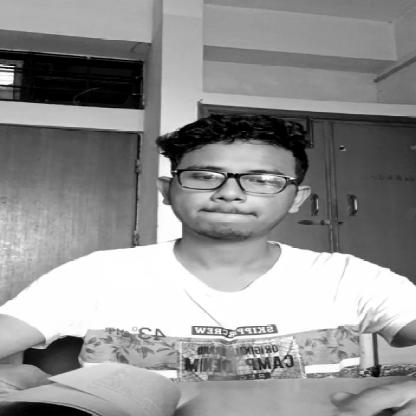Normal: (144, 113, 318, 238)
